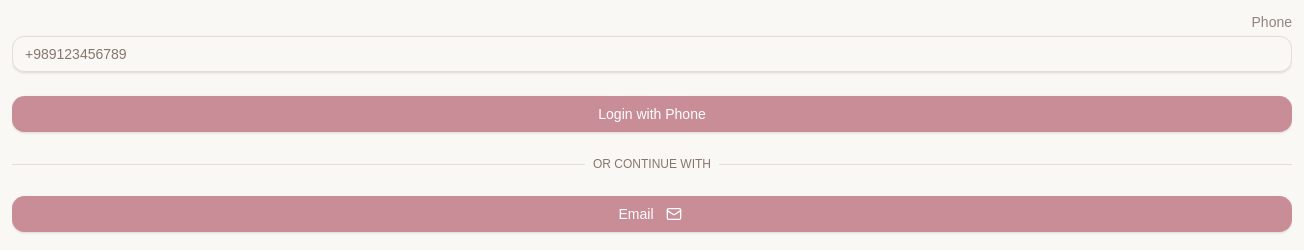
storefront login form: phone step › normalises Persian digits typed into the phone field
The image size is (1304, 250).
Type "۰۹۱۲۳۴۵۶۷۸۹" into the field with placeholder "+989123456789" at (652, 54), box [12,36,1292,72]
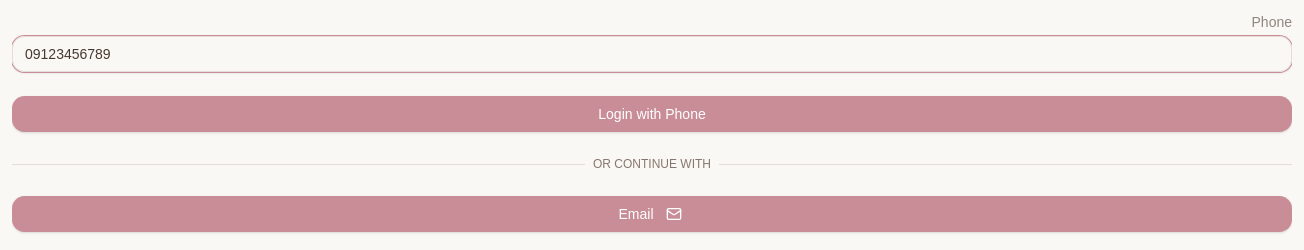
expect the button "Login with Phone" is enabled: met, box [12,96,1292,132]
expect the field with placeholder "+989123456789" holds "09123456789": met, box [12,36,1292,72]
